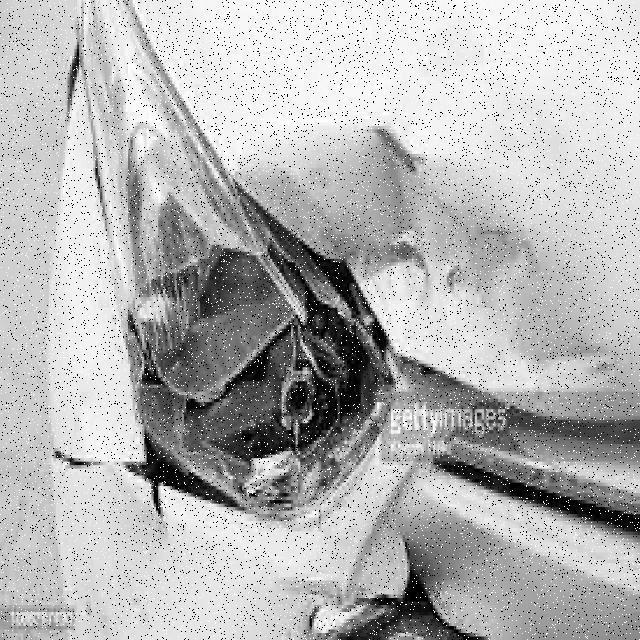Headlight-damage: (49, 113, 412, 532)
bonnet-dent: (291, 1, 638, 532)
